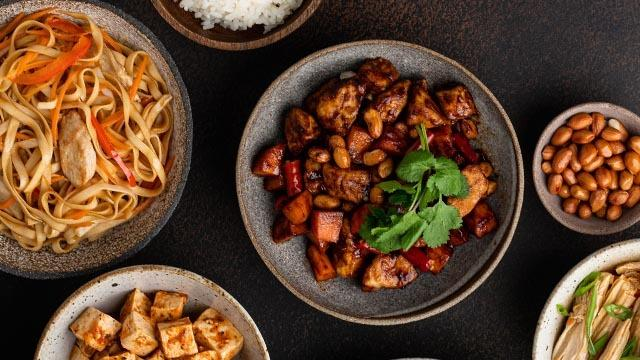Braised Crucian Carp: (237, 40, 518, 324), (3, 0, 194, 277), (30, 265, 268, 359), (531, 104, 640, 235)
